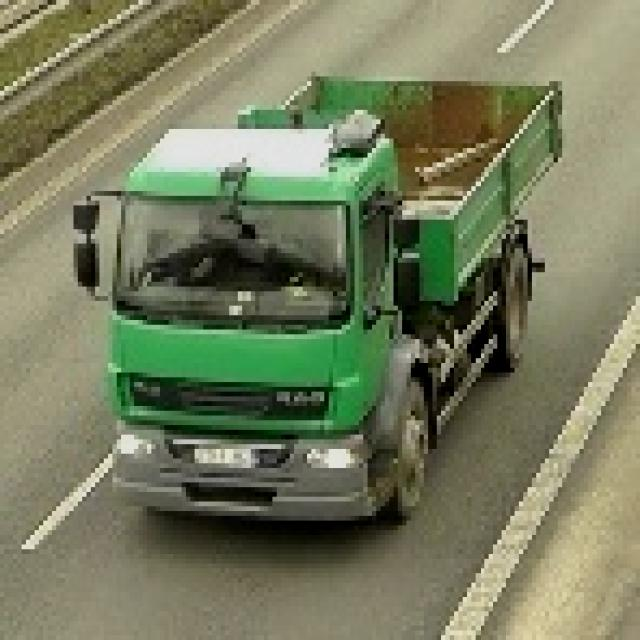truck: (75, 63, 563, 526)
